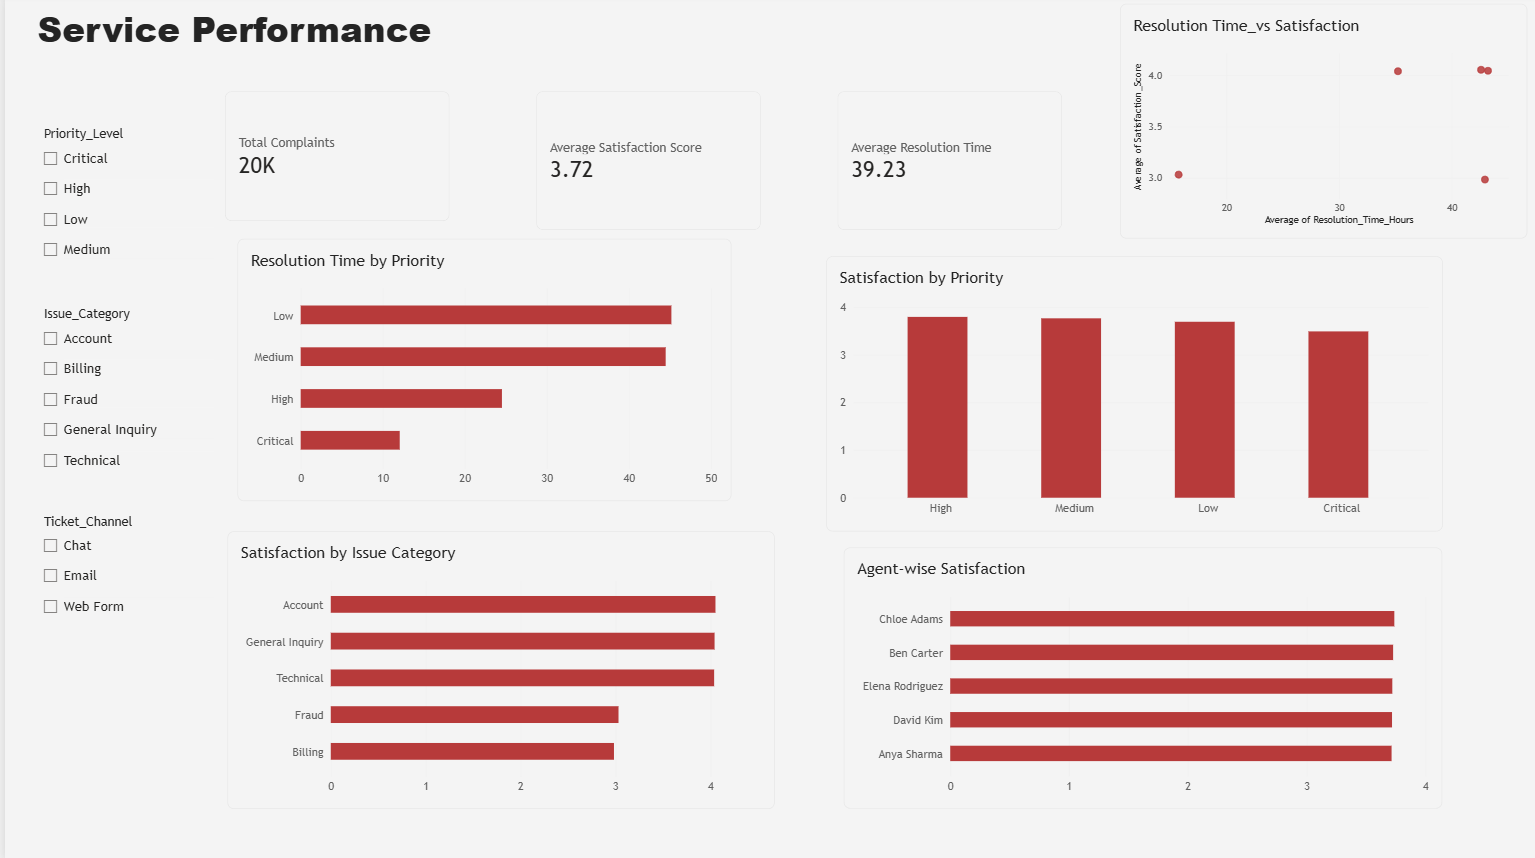

What the dashboard file says about the page in this screenshot:
{"tool":"powerbi","page":{"name":"Service Performance","canvas":[1920,1080],"ordinal":2},"visuals":[{"type":"cardVisual","fields":{"Data":["Avg(customer_complaint_processed.Satisfaction_Score)"]},"box":[662.5,120,280.6,173],"z":0},{"type":"cardVisual","fields":{"Data":["Avg(customer_complaint_processed.Resolution_Time_Hours)"]},"box":[1038.2,120,280.6,173],"z":1},{"type":"cardVisual","fields":{"Data":["CountNonNull(customer_complaint_processed.Ticket_ID)"]},"box":[274.4,120,280.6,162.1],"z":2},{"type":"barChart","title":" Satisfaction by Issue Category","fields":{"Category":["customer_complaint_processed.Issue_Category"],"Y":["Avg(customer_complaint_processed.Satisfaction_Score)"]},"box":[277.5,668.8,682.8,346.1],"z":3},{"type":"barChart","title":"Resolution Time by Priority","fields":{"Category":["customer_complaint_processed.Priority_Level"],"Y":["Avg(customer_complaint_processed.Resolution_Time_Hours)"]},"box":[290,304,615.8,327.4],"z":4},{"type":"columnChart","title":"Satisfaction by Priority","fields":{"Category":["customer_complaint_processed.Priority_Level"],"Y":["Avg(customer_complaint_processed.Satisfaction_Score)"]},"box":[1024.2,325.8,768.5,343],"z":5},{"type":"barChart","title":"Agent-wise Satisfaction","fields":{"Category":["customer_complaint_processed.Assigned_Agent"],"Y":["Avg(customer_complaint_processed.Satisfaction_Score)"]},"box":[1046,689,746.7,325.8],"z":6},{"type":"scatterChart","title":" Resolution Time_vs  Satisfaction","fields":{"Category":["customer_complaint_processed.Issue_Category"],"X":["Avg(customer_complaint_processed.Resolution_Time_Hours)"],"Y":["Avg(customer_complaint_processed.Satisfaction_Score)"]},"box":[1390.5,10.9,508.2,293.1],"z":7},{"type":"slicer","fields":{"Values":["customer_complaint_processed.Issue_Category"]},"box":[40.5,388.2,219.8,280.6],"z":8},{"type":"slicer","fields":{"Values":["customer_complaint_processed.Priority_Level"]},"box":[40.5,163.7,219.8,187.1],"z":9},{"type":"slicer","fields":{"Values":["customer_complaint_processed.Ticket_Channel"]},"box":[40.5,646.9,219.8,280.6],"z":10},{"type":"textbox","box":[40.5,10.9,742,85.7],"z":11}]}

Visuals, with their boxes in screenshot pixels (x1, y1, x2, y2), scaled from the page's 1920x1080 canvas onto the 1535x858 screenshot:
cardVisual - Avg(customer_complaint_processed.Satisfaction_Score): 530,95,754,233
cardVisual - Avg(customer_complaint_processed.Resolution_Time_Hours): 830,95,1054,233
cardVisual - CountNonNull(customer_complaint_processed.Ticket_ID): 219,95,444,224
" Satisfaction by Issue Category" barChart: 222,531,768,806
"Resolution Time by Priority" barChart: 232,242,724,502
"Satisfaction by Priority" columnChart: 819,259,1433,531
"Agent-wise Satisfaction" barChart: 836,547,1433,806
" Resolution Time_vs  Satisfaction" scatterChart: 1112,9,1518,242
slicer - customer_complaint_processed.Issue_Category: 32,308,208,531
slicer - customer_complaint_processed.Priority_Level: 32,130,208,279
slicer - customer_complaint_processed.Ticket_Channel: 32,514,208,737
textbox: 32,9,626,77
